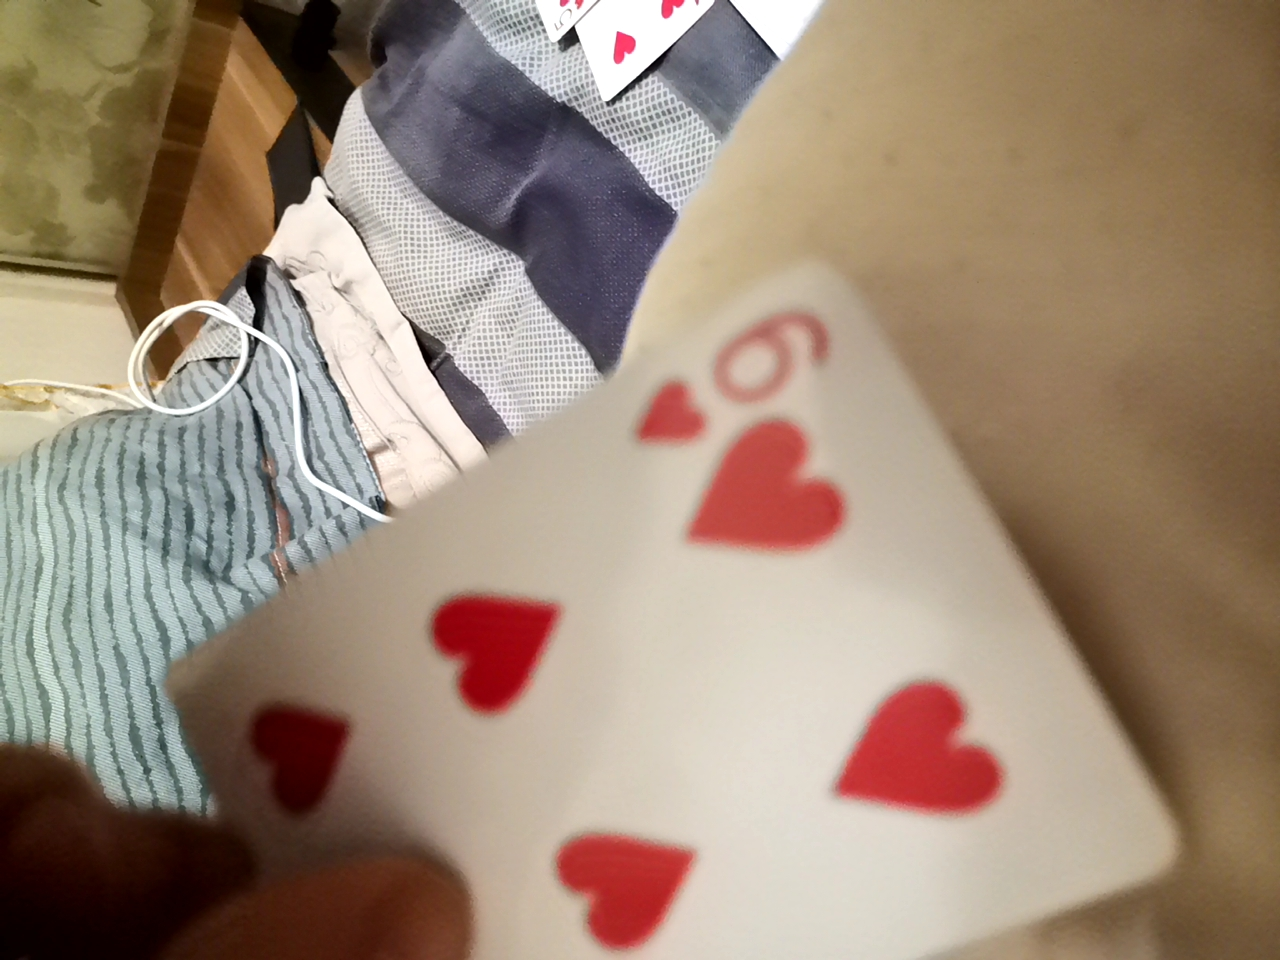hx 6: (134, 249, 1188, 958)
